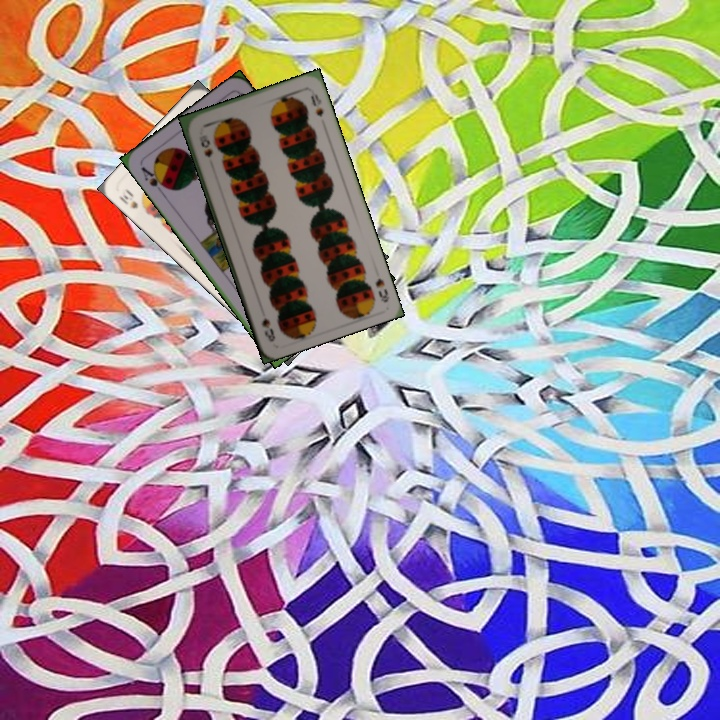S10: (114, 185, 150, 216)
S8: (371, 274, 392, 305), (195, 131, 215, 160)
SA: (137, 163, 171, 196)
